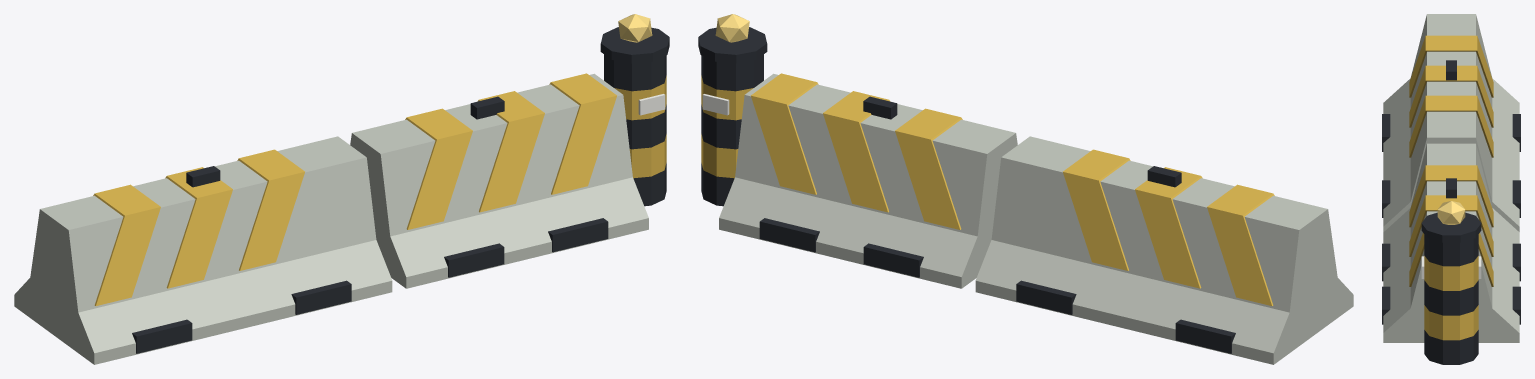
The model's file is sm_env_route_chicane_barrier.glb.
3 renders of one model, left to right at view 1: azimuth 30°, elevation 25°; view 2: azimuth 150°, elevation 25°; view 3: azimuth 270°, elevation 25°, orthographic. The views are drawn at different scales.
Parts seen in each view (by area): view 1: Jersey, Jersey.001, Band, Band.002, Band.003, Band.005, Band.004, Band.001, BollardCap, Bollard.004, Slot.002, Slot (+9 smaller); view 2: Jersey, Jersey.001, Band, Band.002, Band.003, Band.005, Band.004, Band.001, BollardCap, Bollard.004, Slot.002, Slot (+9 smaller); view 3: Jersey, Jersey.001, Band, Band.002, Band.003, Band.001, Bollard.001, Bollard.002, Bollard.003, Bollard, Band.004, Bollard.004 (+9 smaller).
Boxes of the visible parts, x1,y1,x2,y2 form: Jersey: (14,136,392,364); Jersey.001: (350,73,648,288); Band: (93,184,160,305); Band.002: (237,149,304,270); Band.003: (405,108,472,229); Band.005: (549,73,616,194); Band.004: (477,91,544,212); Band.001: (165,167,232,288); BollardCap: (600,27,669,63); Bollard.004: (604,54,666,91); Slot.002: (444,243,504,277); Slot: (132,319,192,353); Jersey: (975,136,1353,364); Jersey.001: (719,73,1017,288); Band: (1207,184,1274,305); Band.002: (1063,149,1130,270); Band.003: (895,108,962,229); Band.005: (751,73,818,194); Band.004: (823,91,890,212); Band.001: (1135,167,1202,288); BollardCap: (698,27,767,63); Bollard.004: (701,54,763,91); Slot.002: (863,243,923,277); Slot: (1175,319,1235,353); Jersey: (1383,14,1519,231); Jersey.001: (1383,143,1519,342); Band: (1409,35,1493,97); Band.002: (1409,95,1493,157); Band.003: (1409,165,1493,227); Band.001: (1409,65,1493,127); Bollard.001: (1424,305,1478,340); Bollard.002: (1424,280,1478,315); Bollard.003: (1424,256,1478,290); Bollard: (1424,330,1478,364); Band.004: (1409,195,1493,256); Bollard.004: (1424,234,1478,266).
Size of the model in its own units: 4.4 by 1.24 by 1.02.
